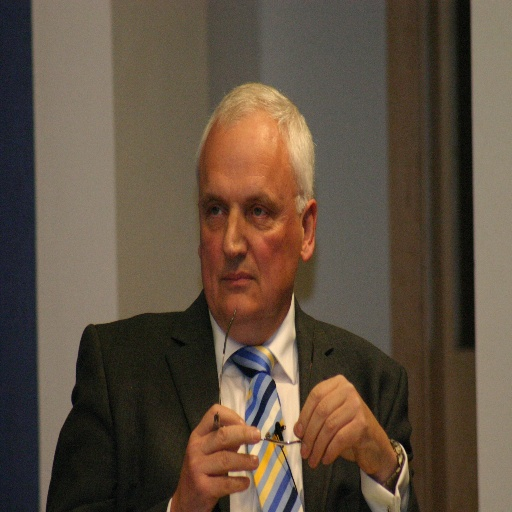hand: (294, 378, 401, 492), (176, 400, 261, 511)
